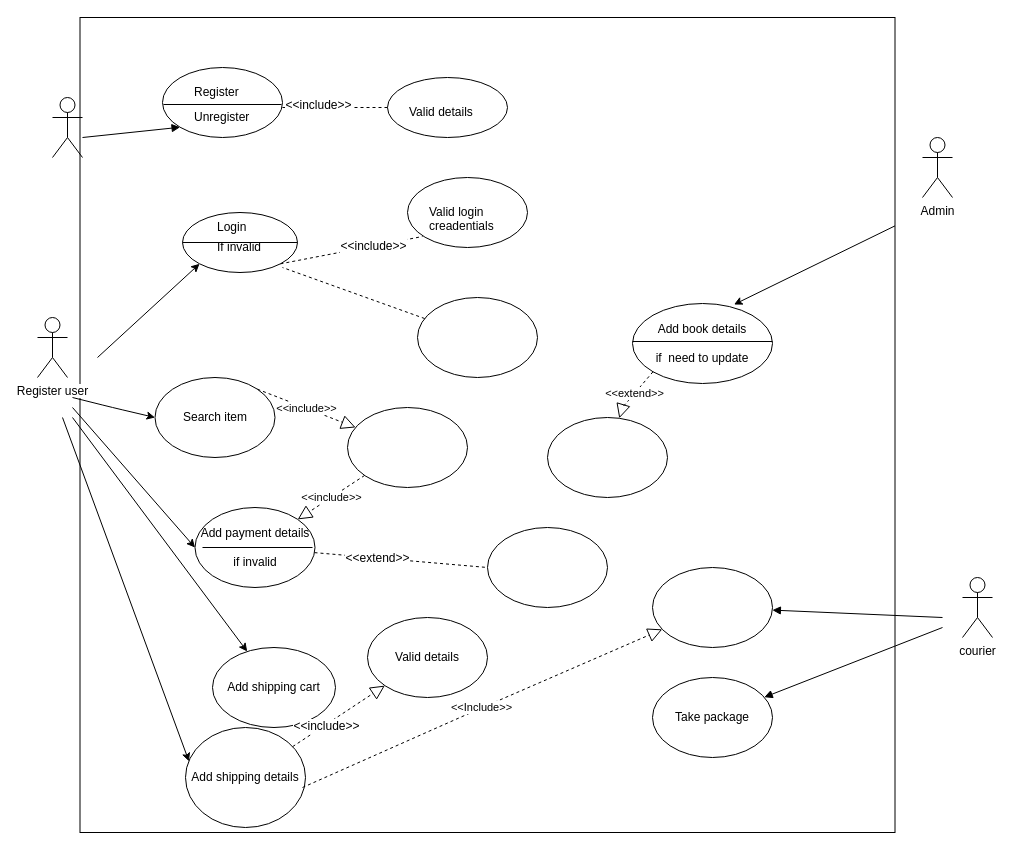
The diagram is 1013 pixels wide and 850 high, and some of its shapes have lost their labels. The centre of each missing label's shape, as x and y in pixels:
"Add to cart" goes at [407,447].
"Print error msg" goes at [547,567].
"Re-enter details" goes at [477,337].
"Take delivery details" goes at [712,607].
"Unregister user" goes at [67,127].
"Update details" goes at [607,457].
